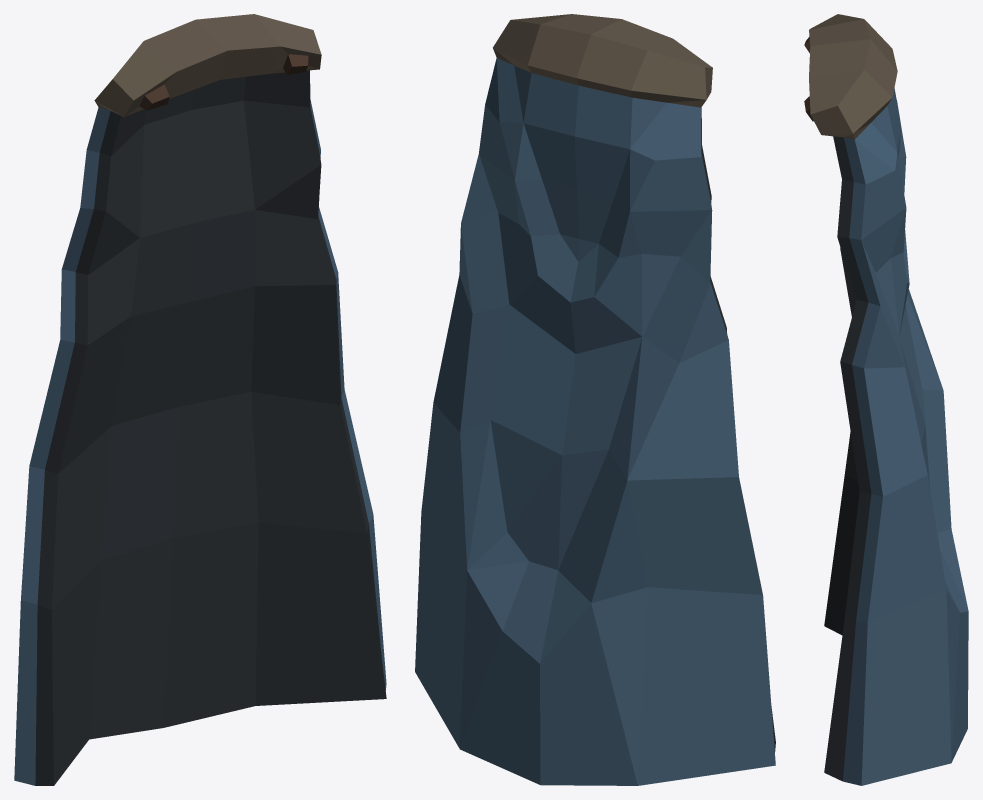
File: Chr_BackAttachment_06_Static.fbx
3 views of the same model, side by side, from view 1: azimuth 30°, elevation 25°; view 2: azimuth 150°, elevation 25°; view 3: azimuth 270°, elevation 25° (orthographic). The views are drawn at different scales.
Visible parts, largest first — view 1: Chr_BackAttachment_06_Static; view 2: Chr_BackAttachment_06_Static; view 3: Chr_BackAttachment_06_Static.
Part boxes in pixels (left/top/right/bottom): Chr_BackAttachment_06_Static: left=14, top=14, right=386, bottom=785; Chr_BackAttachment_06_Static: left=415, top=14, right=775, bottom=785; Chr_BackAttachment_06_Static: left=804, top=14, right=968, bottom=785.
Bounding box in the file's own units: 0.7324 × 1.39 × 0.299.
